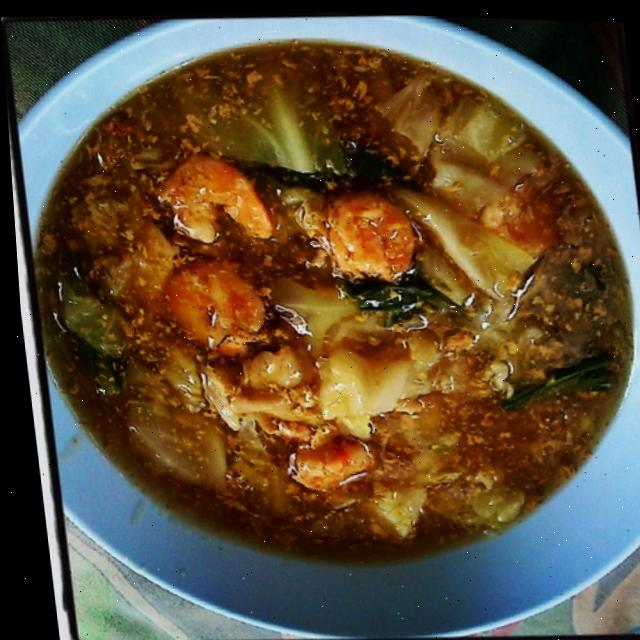面条主食: (20, 26, 640, 591)
